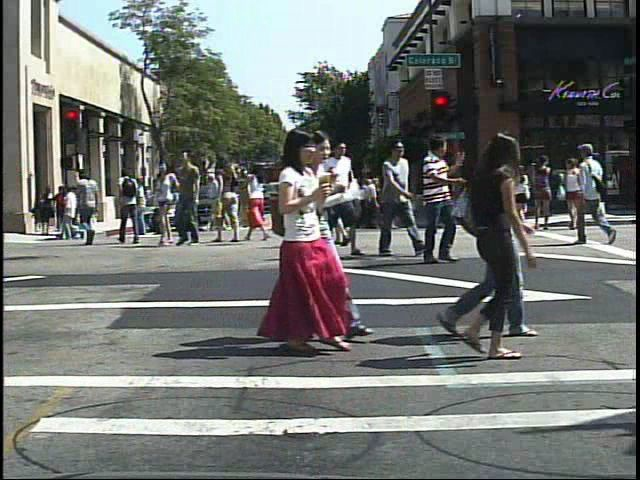person: (454, 128, 547, 364), (267, 126, 356, 356), (444, 128, 531, 342), (418, 131, 476, 266), (570, 136, 621, 249), (371, 135, 416, 262), (307, 132, 344, 266), (325, 136, 362, 259), (312, 140, 349, 249), (173, 148, 209, 249), (209, 151, 245, 242), (150, 156, 185, 249), (334, 146, 363, 249), (243, 152, 271, 245), (72, 165, 104, 246), (114, 163, 144, 245), (509, 160, 537, 234), (312, 162, 333, 231), (55, 183, 75, 234)
